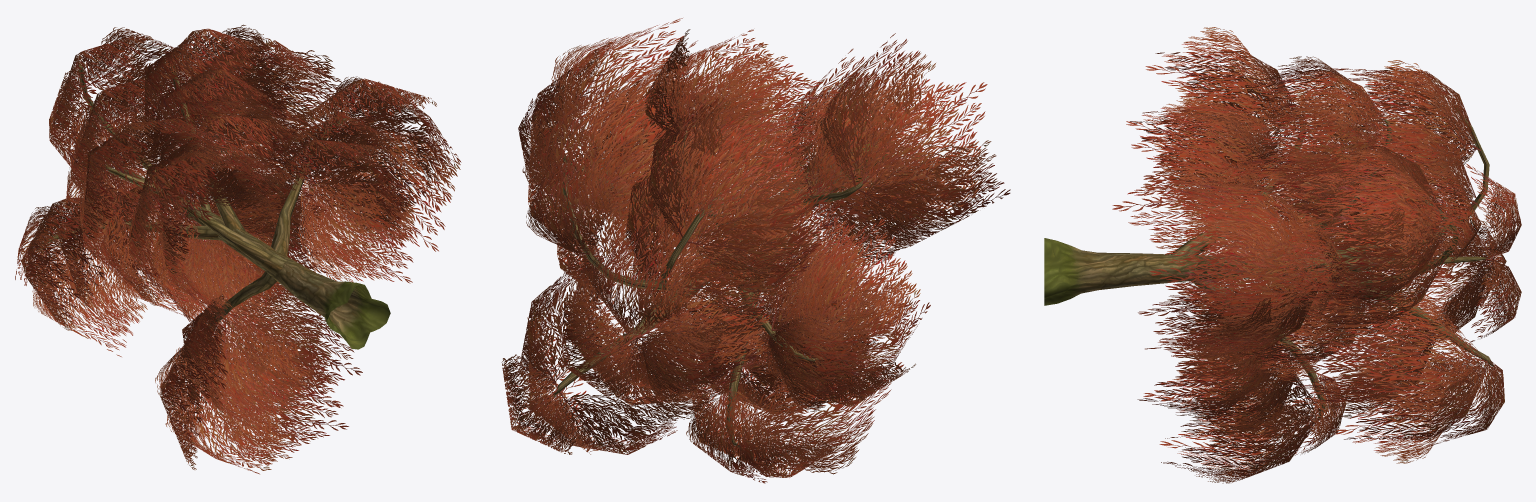
File: willow_tree_2_LOD.fbx
The picture shows the model from 3 angles, left to right: view 1: azimuth 30°, elevation 25°; view 2: azimuth 150°, elevation 25°; view 3: azimuth 270°, elevation 25°; orthographic projection. The views are drawn at different scales.
Visible parts, largest first — view 1: Willow_tree2_LOD0; view 2: Willow_tree2_LOD0; view 3: Willow_tree2_LOD0.
Boxes of the visible parts, x1,y1,x2,y2 form: Willow_tree2_LOD0: (15,24,461,474); Willow_tree2_LOD0: (501,18,1010,483); Willow_tree2_LOD0: (1044,27,1521,483).
Size of what is drawn, in the model's own units: 1252 by 1279 by 1247.
